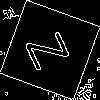Z: (25, 25, 79, 72)
